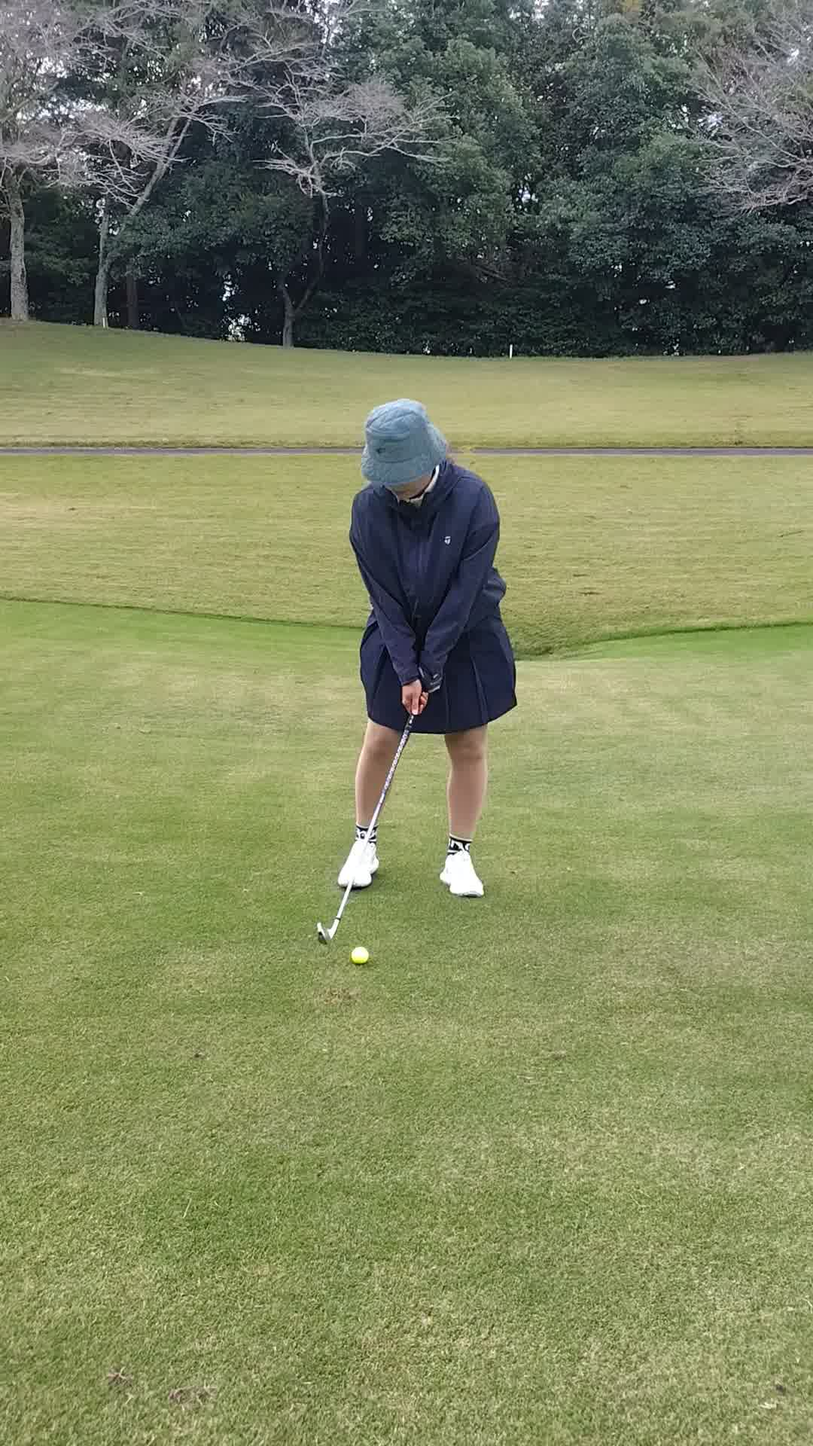clubhead: (226, 895, 397, 977)
